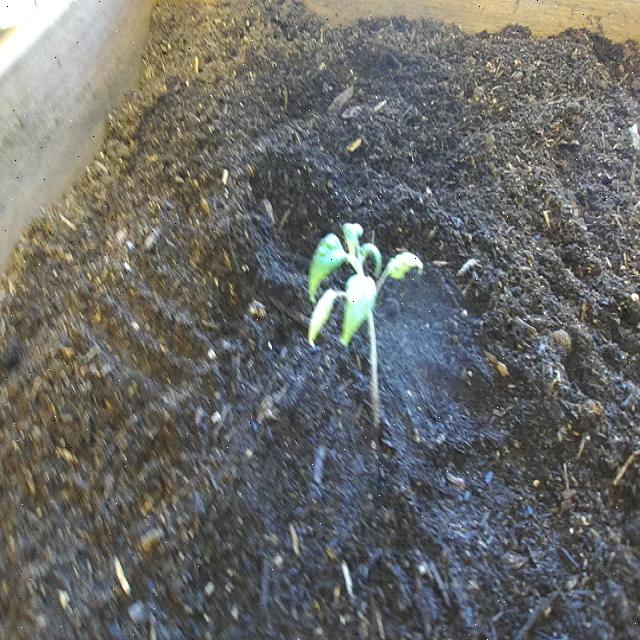Healthy: (302, 201, 430, 442)
